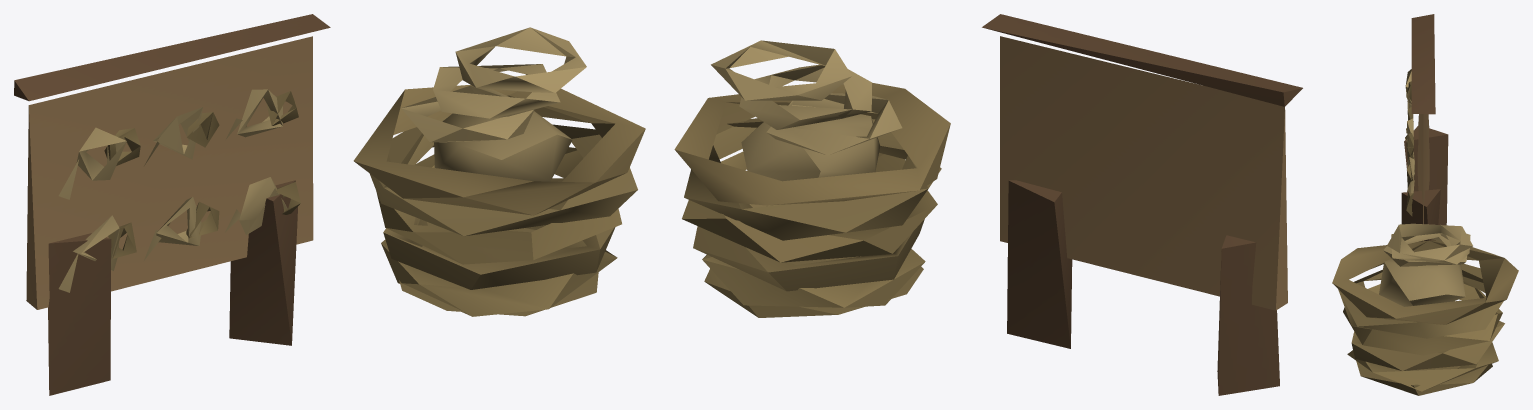
The model's file is knot_board_a_lod2.glb.
3 renders of one model, left to right at view 1: azimuth 30°, elevation 25°; view 2: azimuth 150°, elevation 25°; view 3: azimuth 270°, elevation 25°, orthographic. The views are drawn at different scales.
Parts seen in each view (by area): view 1: Surface.001; view 2: Surface.001; view 3: Surface.001.
Part boxes in pixels (x1,y1,x2,y2): Surface.001: (14,14,645,395); Surface.001: (674,14,1302,395); Surface.001: (1332,14,1518,395).
Bounding box in the file's own units: 3.4 × 1.66 × 1.4.
